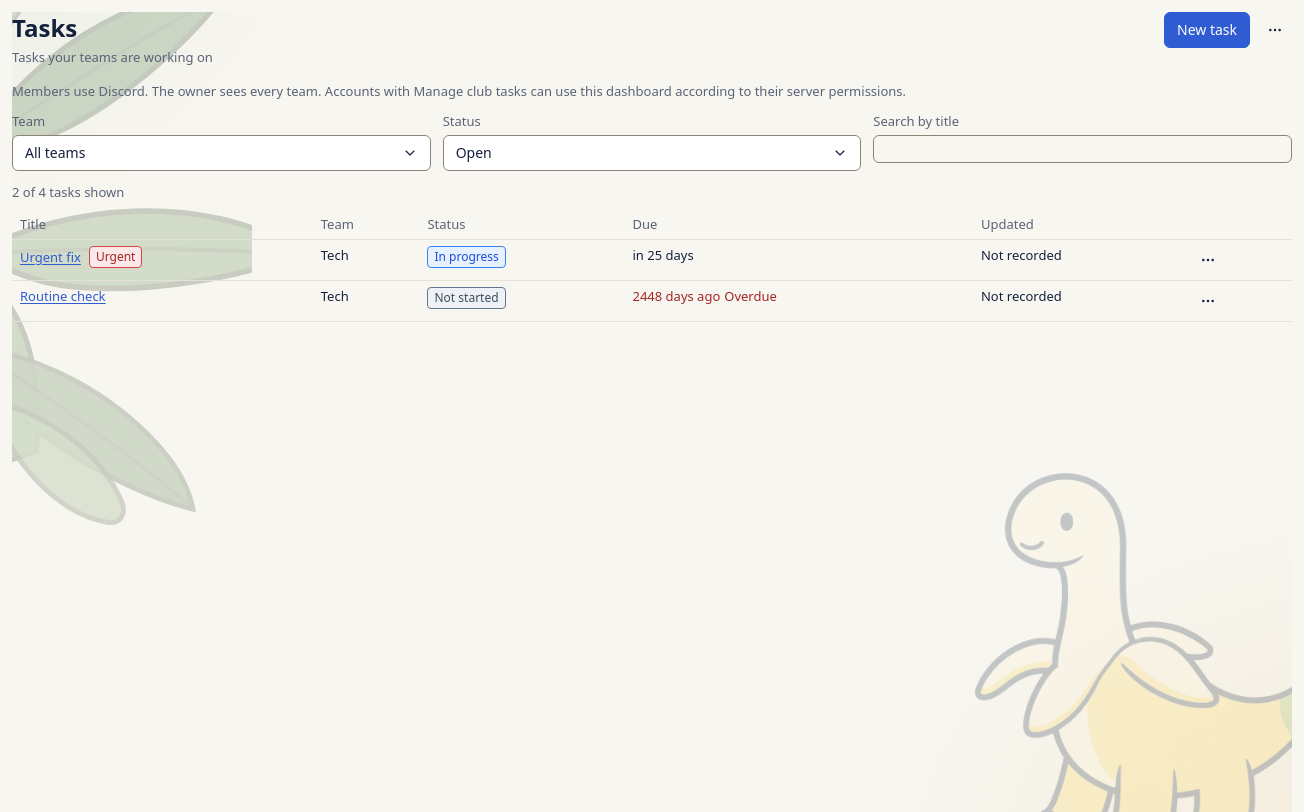
tasks board › shows done and archived tasks under their own status filter
Expected: the link "Urgent fix" is shown, [20,248,81,266]
Click the dropdown labelled "Open". click: (474, 152)
box: [443,135,861,171]
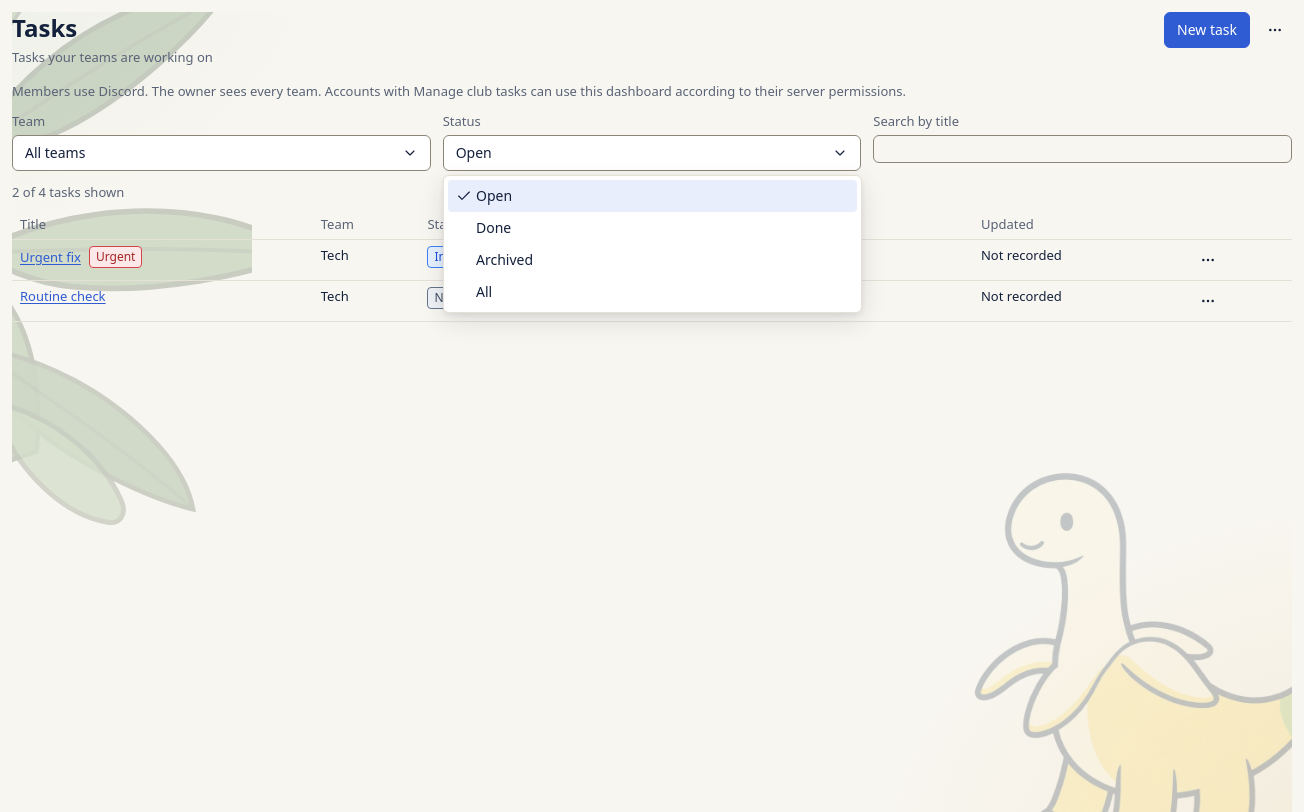
Click the option "Archived". click: (505, 260)
box: [476,250,533,269]
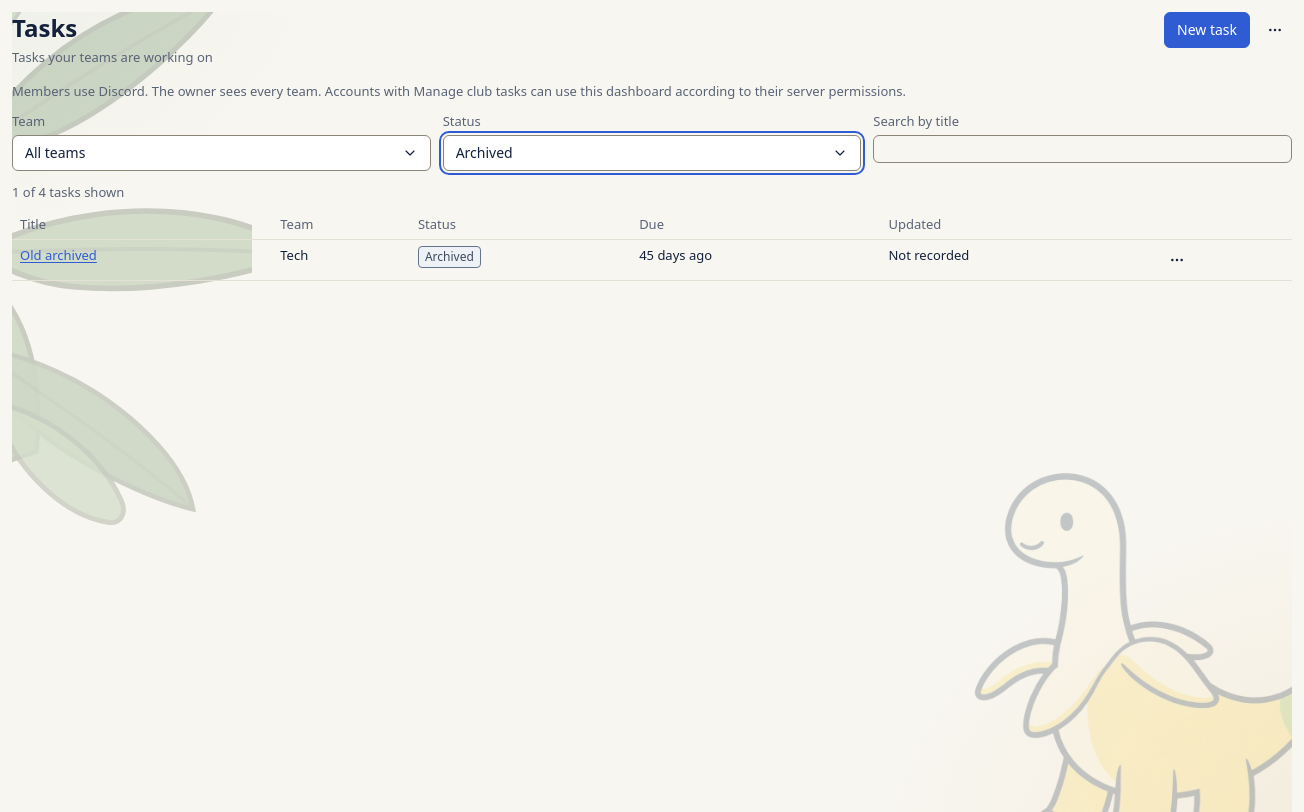
Now the number of links "Old archived" is 1, box [20,246,97,265]
Now the link "Urgent fix" is gone
Click the dropdown labelled "Archived". click: (484, 152)
box: [443,135,861,171]
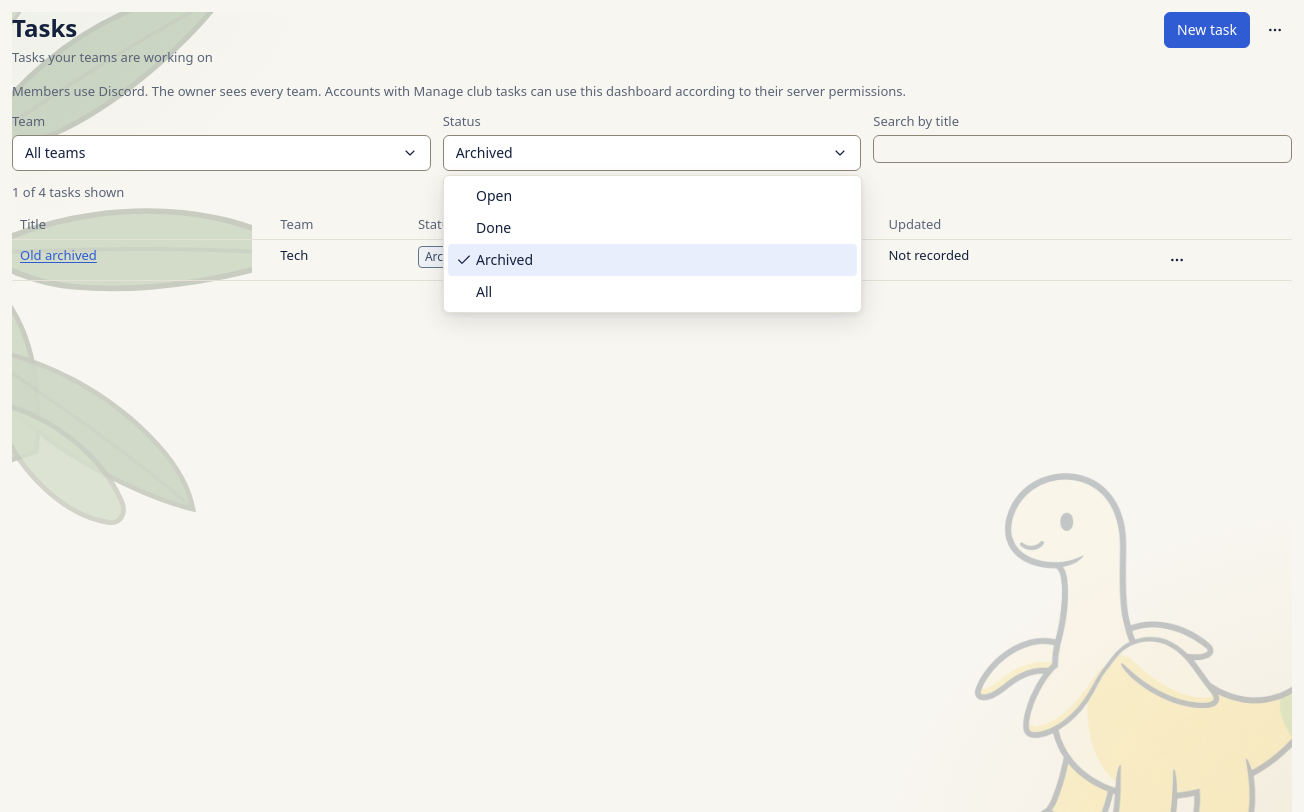
Click the option "Done". click: (494, 228)
box: [476,218,511,237]
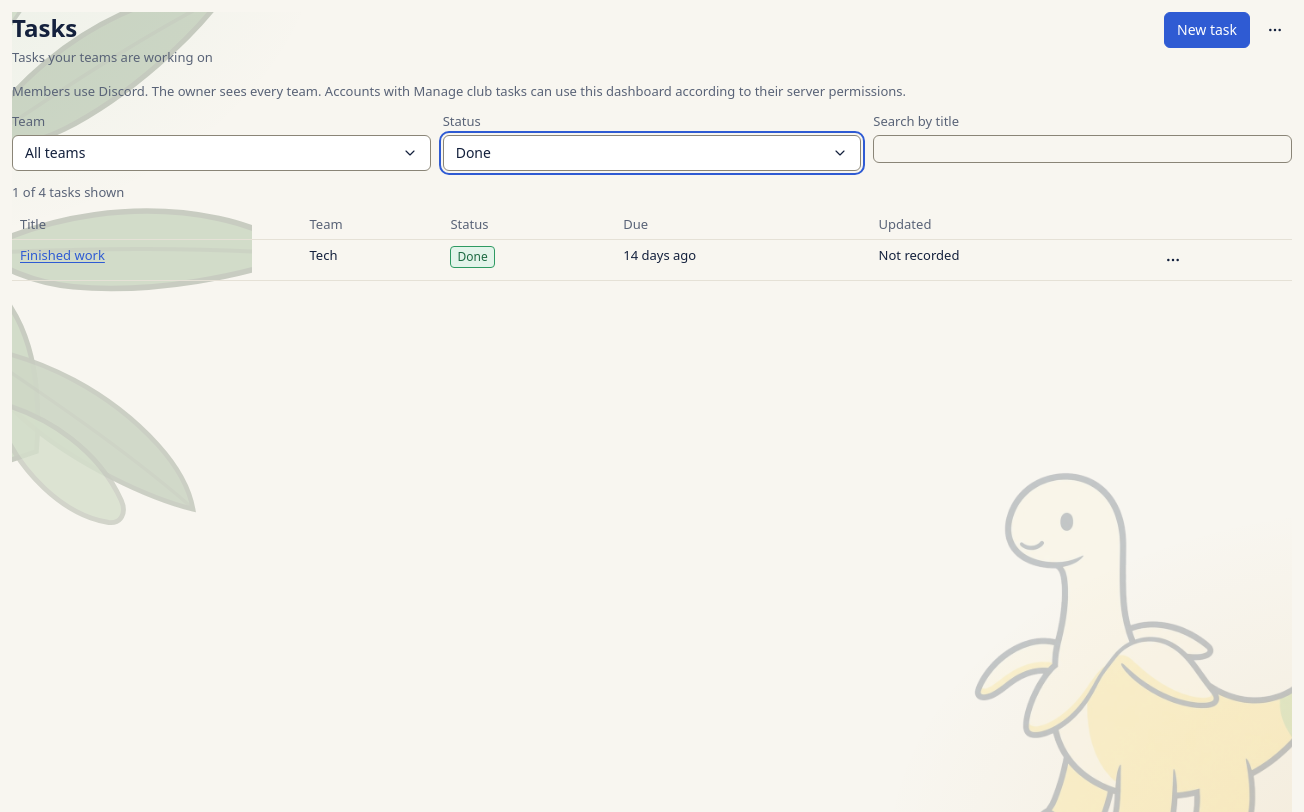
Now the link "Finished work" is shown, box [20,246,105,265]
Now the link "Old archived" is gone
Click the dropdown labelled "Done". click: (473, 152)
box: [443,135,861,171]
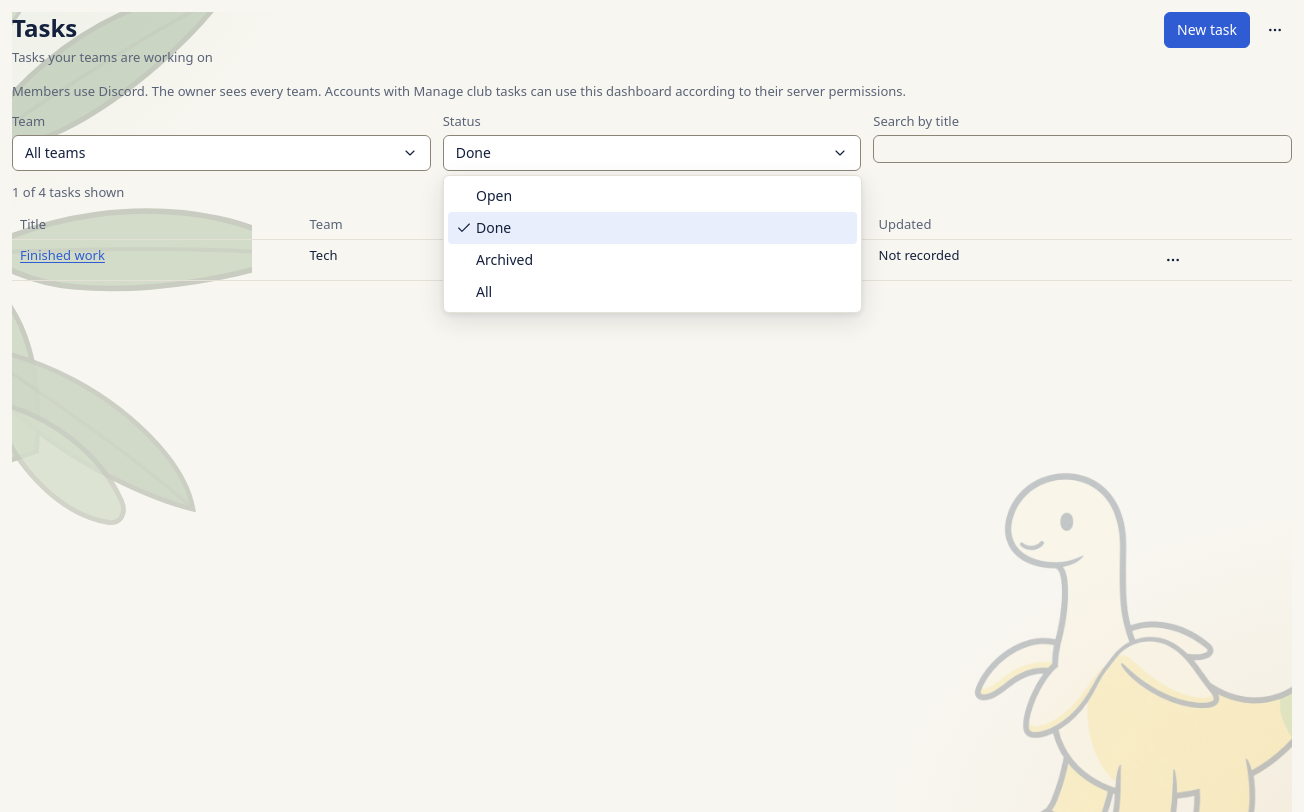
Click the option "All". click: (484, 292)
box: [476,282,492,301]
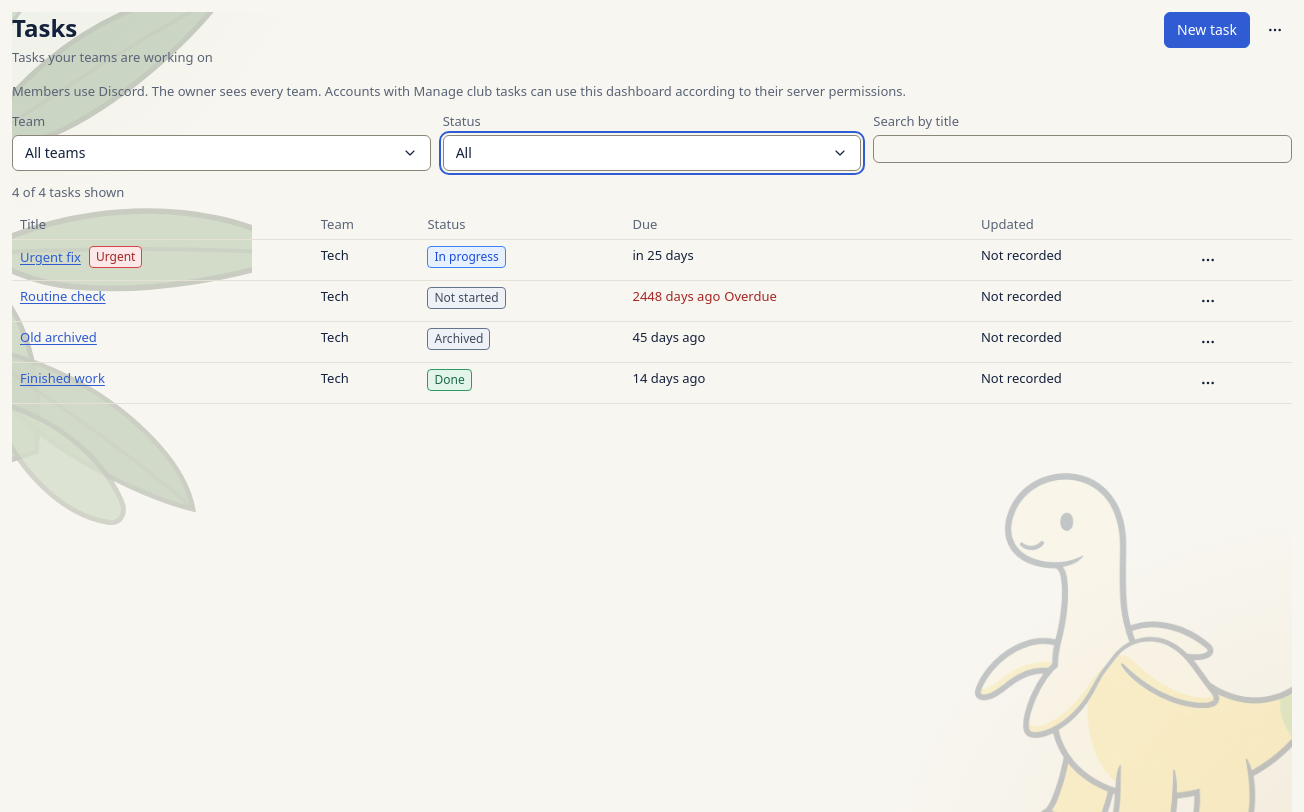
Now the text "4 of 4 tasks shown" is shown, box [12,183,124,201]
